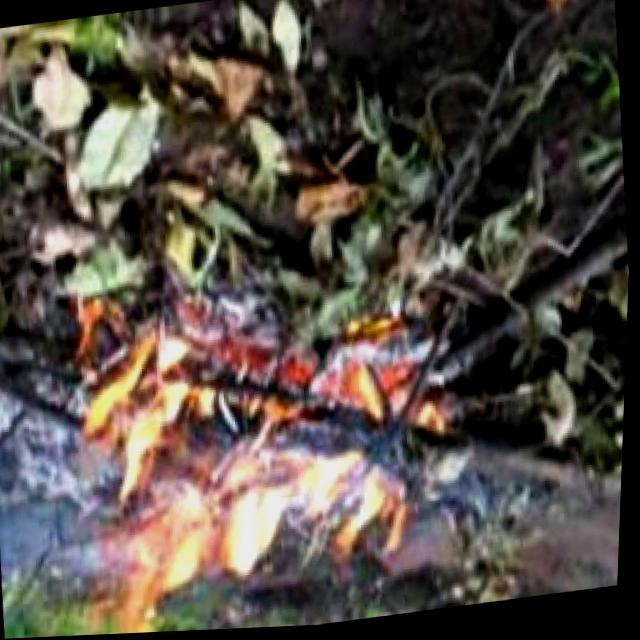Fire: (69, 312, 430, 637)
